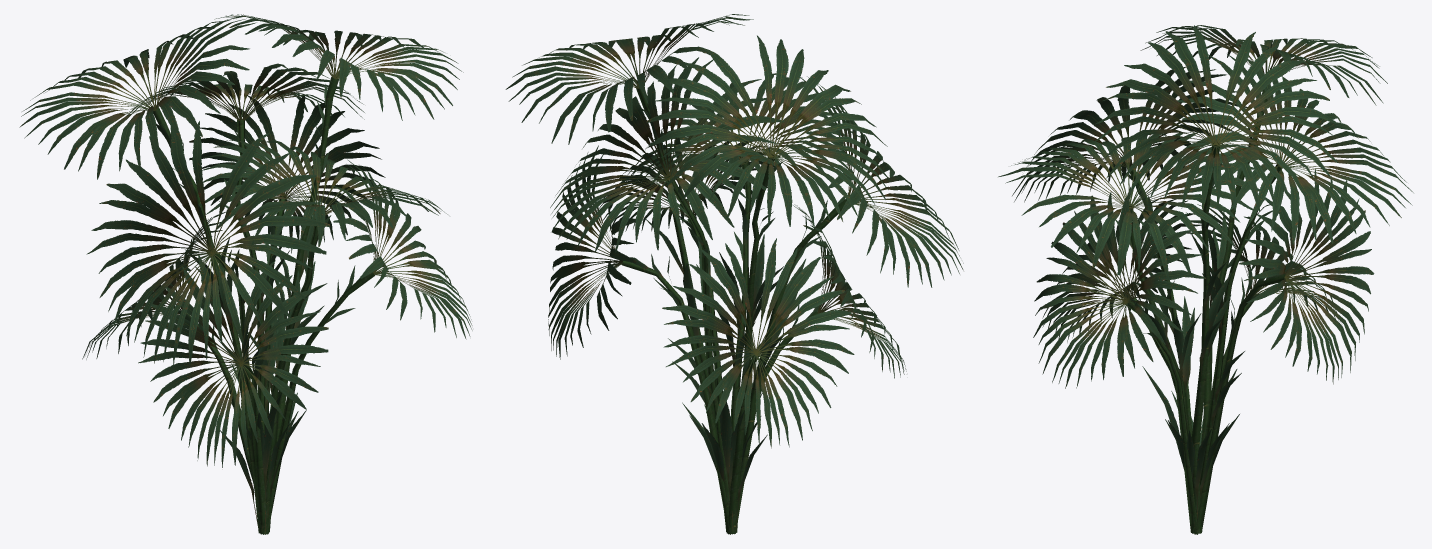
File: Plant1_1_L2.fbx
3 renders of one model, left to right at view 1: azimuth 30°, elevation 25°; view 2: azimuth 150°, elevation 25°; view 3: azimuth 270°, elevation 25°, orthographic.
Visible parts, largest first — view 1: polySurface14; view 2: polySurface14; view 3: polySurface14.
Boxes of the visible parts, left/top/right/bottom form: polySurface14: left=19, top=14, right=472, bottom=534; polySurface14: left=505, top=14, right=963, bottom=534; polySurface14: left=998, top=25, right=1413, bottom=534.
Size of the model in its own units: 467 by 583 by 436.
